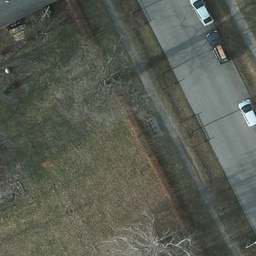car: (204, 28, 228, 62), (190, 1, 214, 26), (237, 101, 256, 126)
